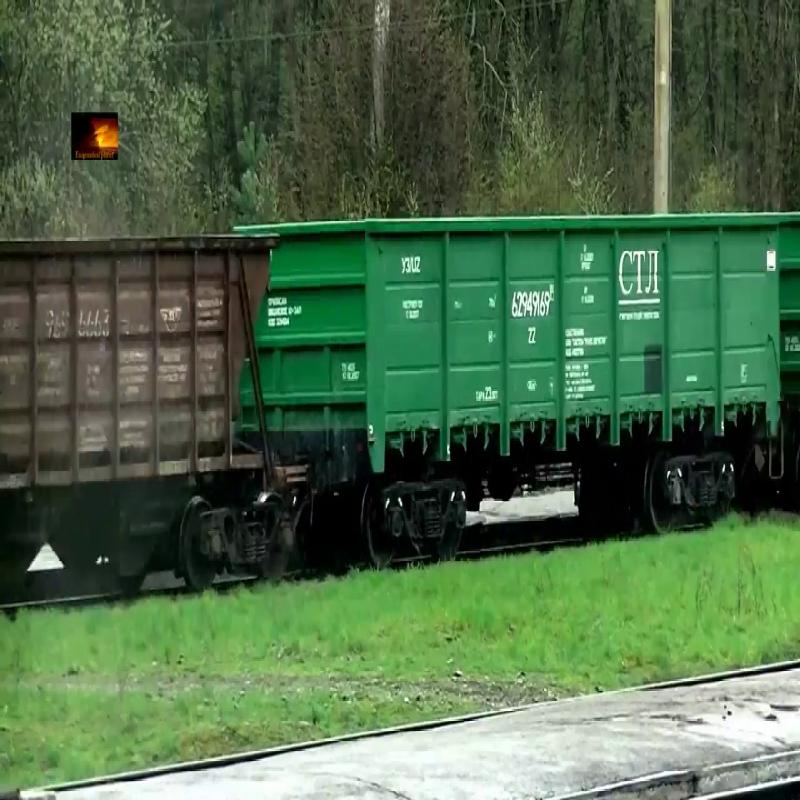train: (244, 209, 784, 521), (1, 228, 281, 500)
